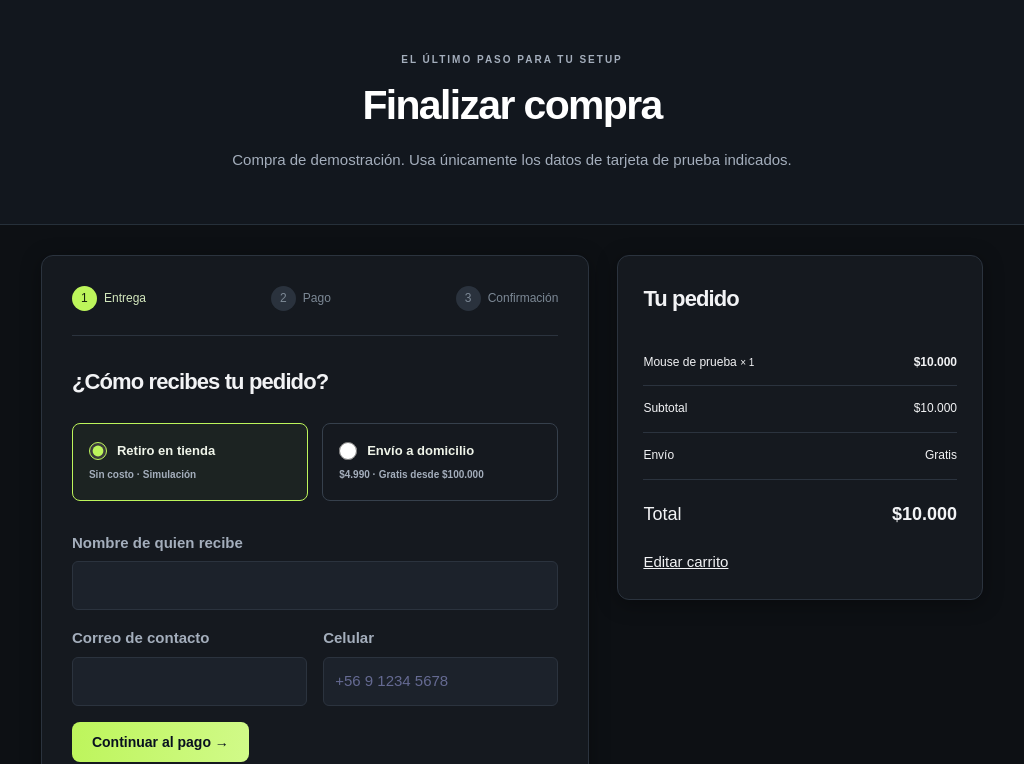
it: Compra integrada › CK02 envío solicita dirección y muestra costo
Click the radio button labelled "Envío a domicilio $4.990 · Gratis desde $100.000".
click(348, 451)  # box left=339, top=442, right=357, bottom=460
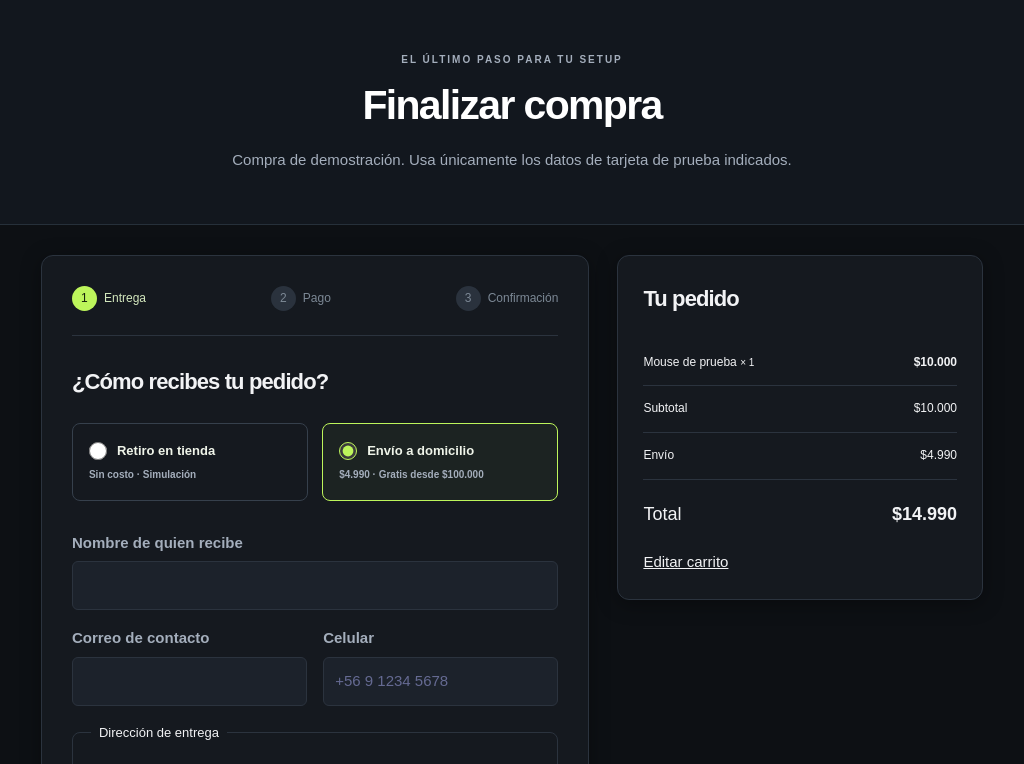
Result: the text "$14.990" is shown at left=892, top=500, right=957, bottom=530
